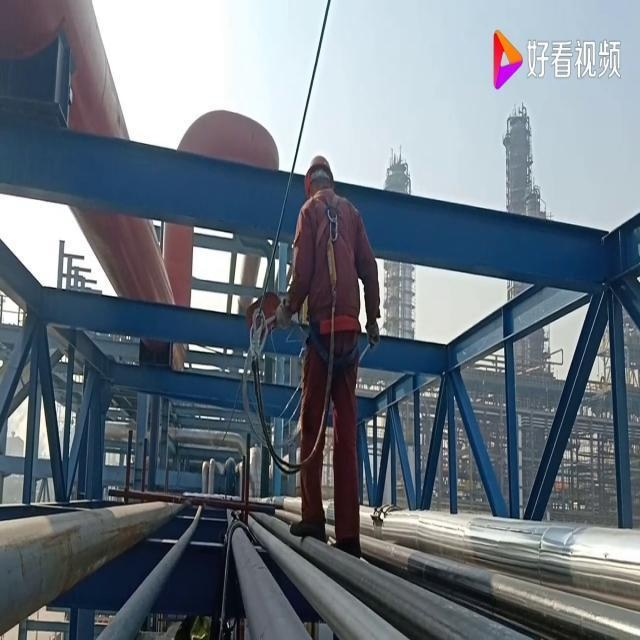Arnes_seguridad: (305, 188, 359, 273)
